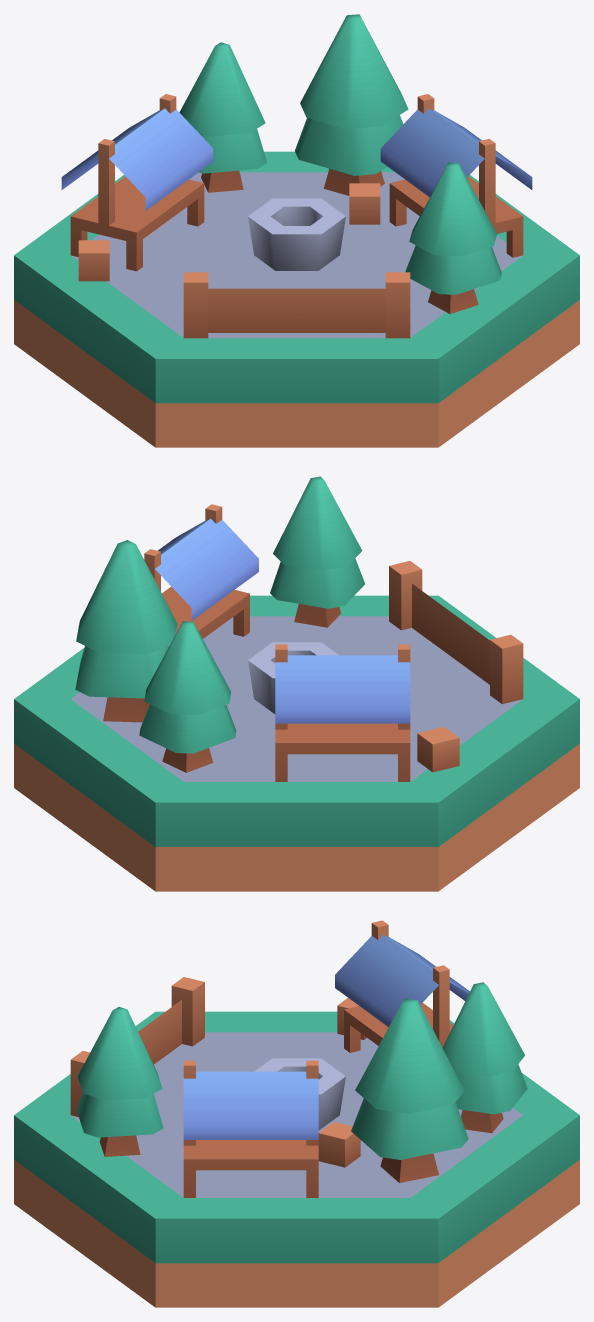
Rendered from building-market.fbx.
The picture shows the model from 3 angles, top to bottom: view 1: azimuth 30°, elevation 25°; view 2: azimuth 150°, elevation 25°; view 3: azimuth 270°, elevation 25°; orthographic projection.
Visible parts, largest first — view 1: building_market; view 2: building_market; view 3: building_market.
Part boxes in pixels (box(x1,y1,x2,y2)): building_market: box(14, 14, 579, 447); building_market: box(14, 476, 579, 891); building_market: box(14, 920, 579, 1307).
Bounding box in the file's own units: 100 × 58 × 115.
1 material, 1 textured.
